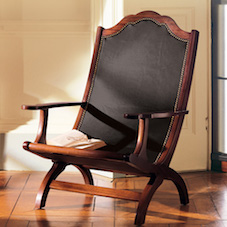chair: (12, 8, 205, 217)
